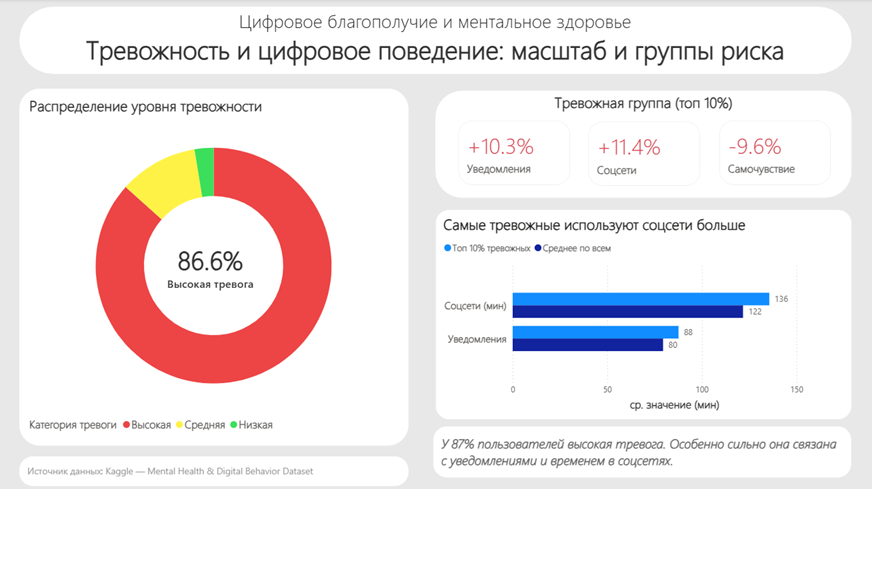

Layout of this report page (visuals, bound fields, positions):
{"tool":"powerbi","page":{"name":"Страница 2","canvas":[1280,720],"ordinal":1},"visuals":[{"type":"cardVisual","fields":{"Rows":["cards.Метрика"],"Data":["Min(cards.Разница)"]},"box":[314,97.3,272,178],"z":1500},{"type":"cardVisual","fields":{"Rows":["cards.Метрика"],"Data":["Min(cards.Разница)"]},"box":[22,97.3,258,178],"z":1875},{"type":"clusteredBarChart","title":"Самые тревожные используют соцсети больше","fields":{"Category":["top_anxious.Показатель"],"Y":["Avg(top_anxious.Топ 10% тревожных)","Avg(top_anxious.Средние по всем)"]},"box":[21.7,263.3,563.3,420],"z":2250},{"type":"textbox","box":[0,58,1280,70],"z":2500},{"type":"donutChart","title":"Распределение тревоги среди подростков","fields":{"Category":["mental_health_digital_behavior_data.Категория тревоги"],"Y":["CountNonNull(mental_health_digital_behavior_data.Тревожность)"]},"box":[621.7,125,640,510],"z":4000},{"type":"textbox","box":[811.7,360,130,75],"z":5000},{"type":"textbox","box":[622.3,648.1,639,69.7],"z":6000},{"type":"textbox","box":[22,690,456,28],"z":7000},{"type":"textbox","box":[260,0,758.3,58.3],"z":8000}]}

Visuals, with their boxes on the page's 1280x720 design canvas (x1, y1, x2, y2). These are canvas units, not pixel positions in the 872x562 screenshot, which may show the page scaled, cropped or inside an application window:
cardVisual - cards.Метрика x Min(cards.Разница): l=314, t=97, r=586, b=275
cardVisual - cards.Метрика x Min(cards.Разница): l=22, t=97, r=280, b=275
"Самые тревожные используют соцсети больше" clusteredBarChart: l=22, t=263, r=585, b=683
textbox: l=0, t=58, r=1280, b=128
"Распределение тревоги среди подростков" donutChart: l=622, t=125, r=1262, b=635
textbox: l=812, t=360, r=942, b=435
textbox: l=622, t=648, r=1261, b=718
textbox: l=22, t=690, r=478, b=718
textbox: l=260, t=0, r=1018, b=58
